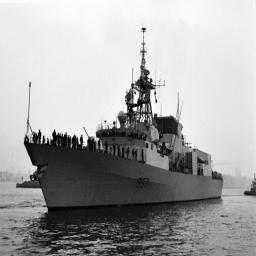Fragata: (25, 19, 225, 219)
